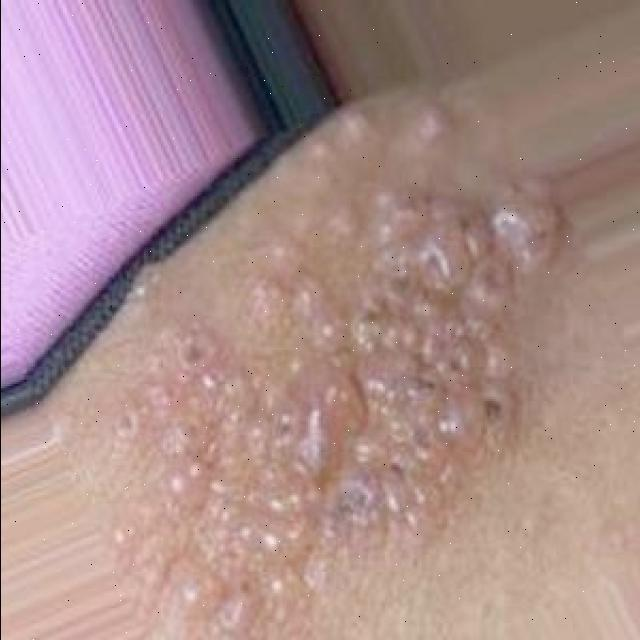Shingles: (114, 98, 564, 636)
